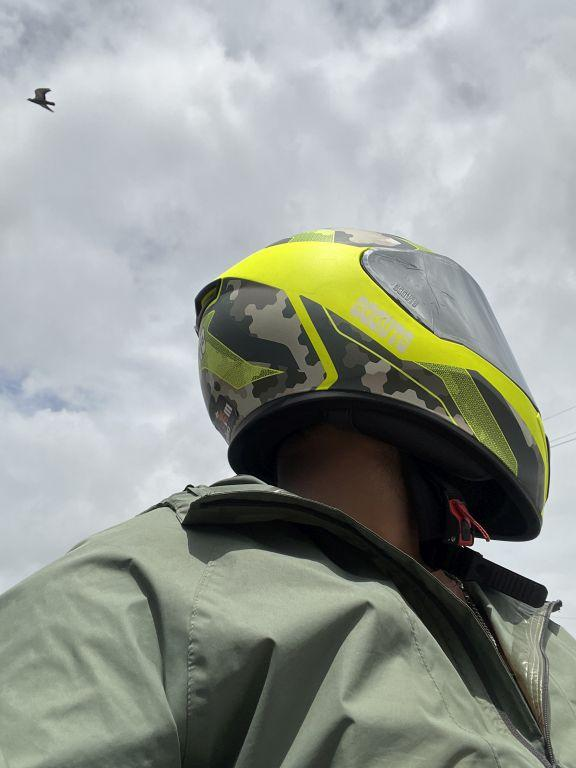helmet: (185, 200, 566, 557)
